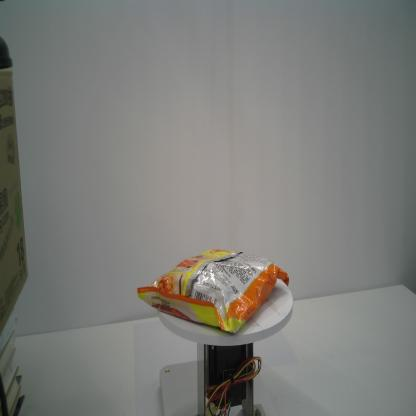Instant Noodles: (137, 248, 290, 333)
